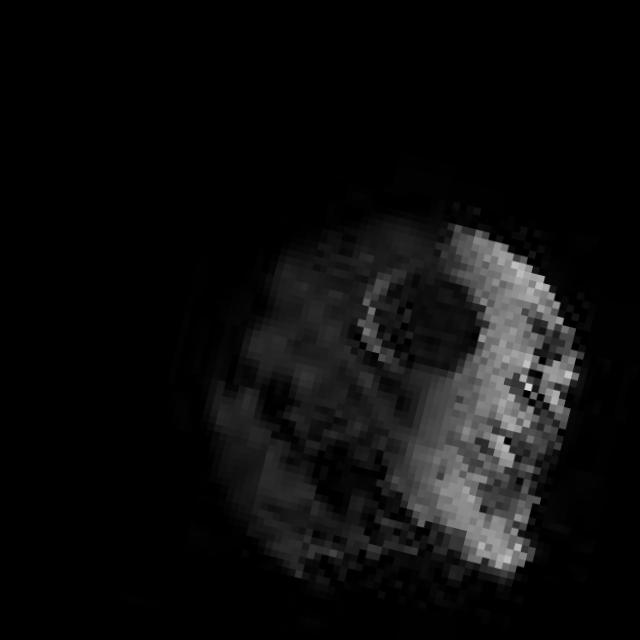Death Star: (166, 154, 631, 640)
